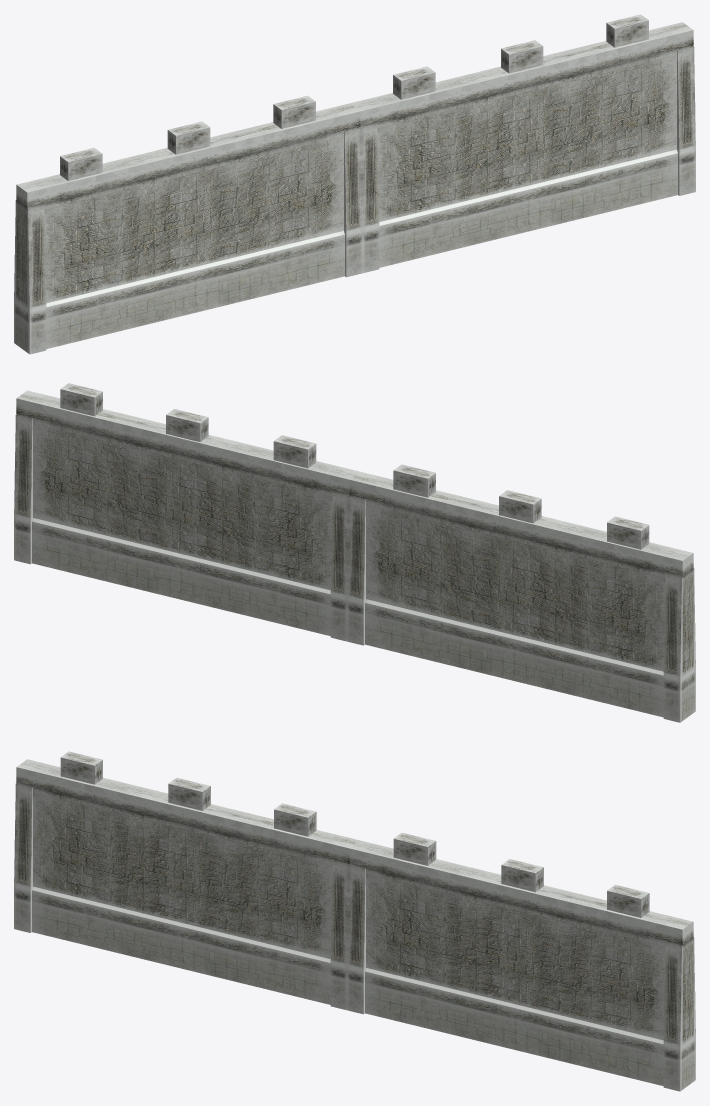
The model's file is snow-bigdam-03.fbx.
The picture shows the model from 3 angles, top to bottom: view 1: azimuth 30°, elevation 25°; view 2: azimuth 150°, elevation 25°; view 3: azimuth 330°, elevation 25°; orthographic projection.
Parts seen in each view (by area): view 1: snow-bigdam-01; view 2: snow-bigdam-01; view 3: snow-bigdam-01.
Part boxes in pixels (<box>): snow-bigdam-01: <box>14,14,695,354</box>; snow-bigdam-01: <box>14,383,695,722</box>; snow-bigdam-01: <box>14,751,695,1091</box>.
Bounding box in the file's own units: 20.01 × 5.14 × 0.8224.
